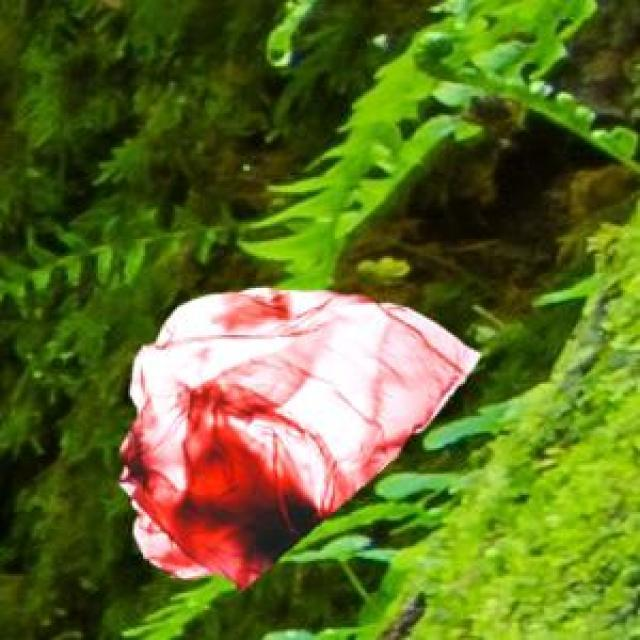waste: (120, 291, 479, 588)
